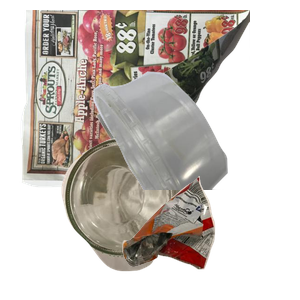glass: (59, 135, 254, 300)
paper: (18, 10, 258, 190)
plastic: (91, 69, 300, 249)
trash: (120, 174, 300, 300)
